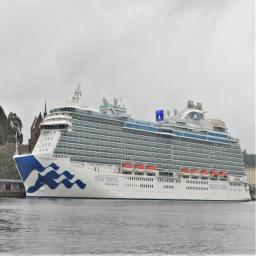cruises: (13, 82, 253, 208)
